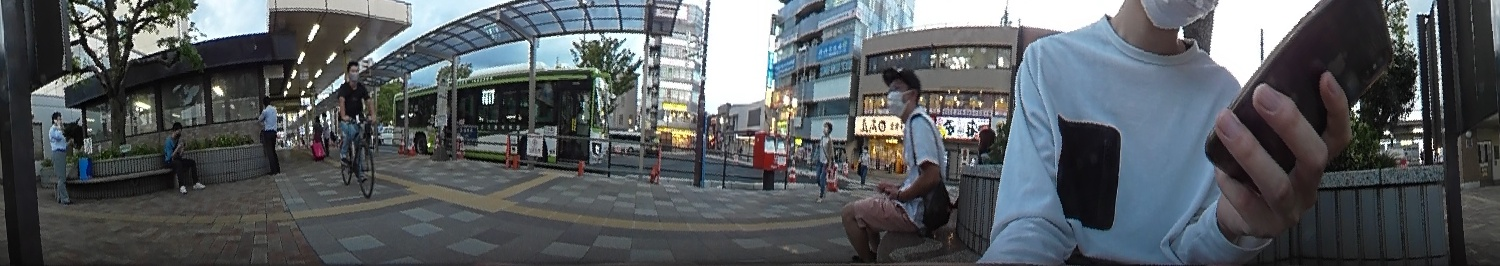difficult_person: (809, 118, 837, 205), (318, 111, 331, 155), (856, 144, 871, 181), (310, 114, 322, 155)
person: (837, 67, 958, 266), (335, 60, 376, 174), (164, 121, 206, 191), (252, 96, 286, 175), (47, 108, 70, 202)
